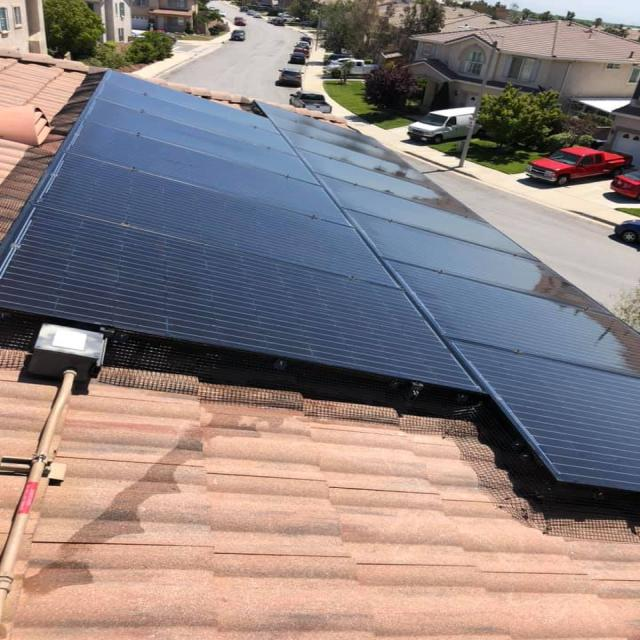clean-solar-panel: (2, 71, 638, 491)
